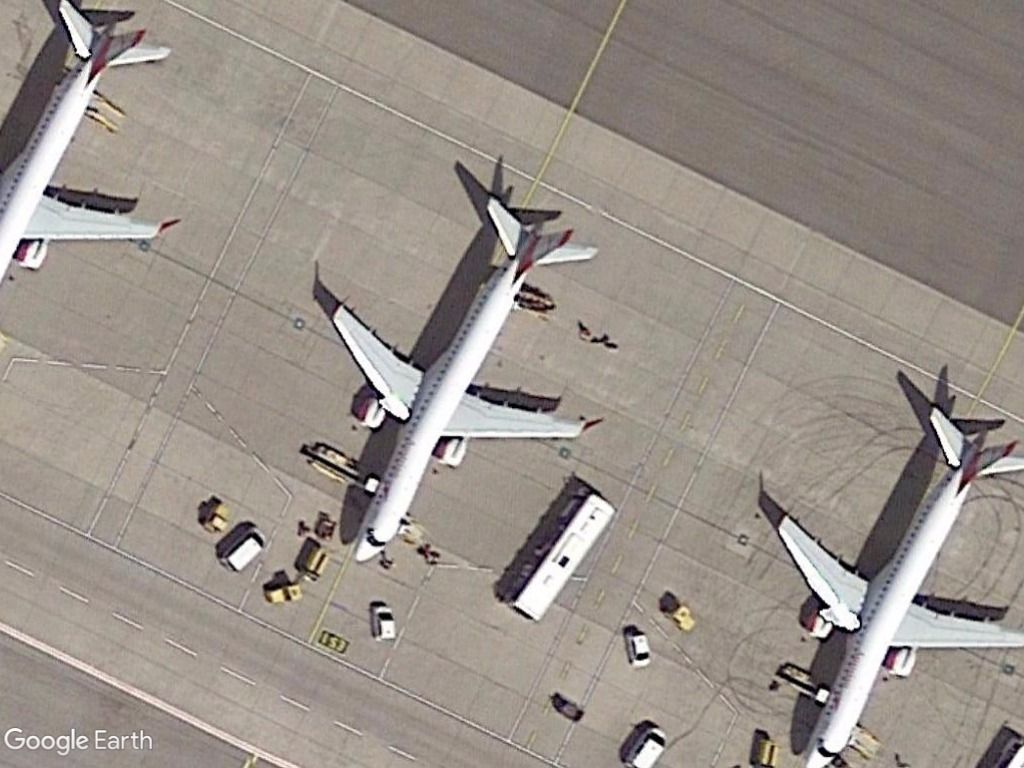airliner: (325, 190, 607, 567)
bus: (509, 490, 623, 625)
van: (218, 527, 268, 576), (367, 600, 401, 646), (623, 630, 656, 671)
